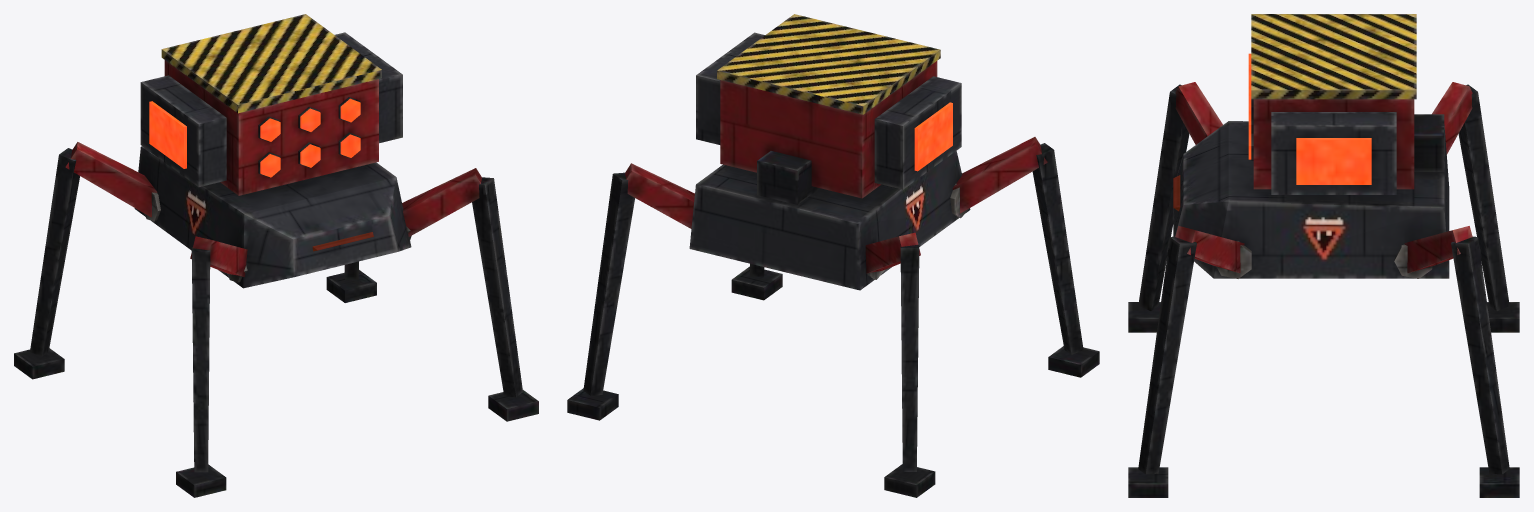
File: u_havoc2_e.glb
3 views of the same model, side by side, from view 1: azimuth 30°, elevation 25°; view 2: azimuth 150°, elevation 25°; view 3: azimuth 270°, elevation 25° (orthographic). The views are drawn at different scales.
Parts seen in each view (by area): view 1: u_havoc2_e; view 2: u_havoc2_e; view 3: u_havoc2_e.
Part boxes in pixels (x1,y1,x2,y2): u_havoc2_e: (14, 14, 538, 497); u_havoc2_e: (567, 14, 1099, 497); u_havoc2_e: (1128, 14, 1519, 497).
Bounding box in the file's own units: 1.99 × 1.8 × 1.8.
Materials: 1 (1 with a texture image).
